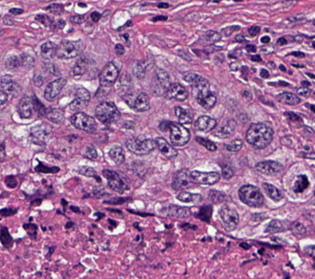nucleus: (246, 123, 272, 148), (103, 169, 128, 192), (126, 136, 155, 155), (95, 101, 120, 123), (71, 111, 96, 132), (239, 185, 263, 206), (56, 40, 83, 58), (44, 78, 66, 100), (69, 87, 89, 111), (124, 92, 149, 111), (169, 122, 189, 145), (99, 62, 118, 86), (155, 137, 177, 157), (220, 206, 238, 230), (184, 72, 209, 89), (172, 169, 193, 189), (190, 170, 219, 184), (30, 124, 50, 144), (196, 87, 215, 108), (215, 119, 235, 138), (255, 160, 282, 174), (165, 83, 187, 100), (161, 205, 190, 217), (155, 68, 170, 91), (263, 183, 282, 201), (194, 116, 216, 131), (78, 166, 100, 181), (72, 56, 88, 75), (108, 145, 124, 164), (175, 106, 192, 123), (40, 41, 56, 59), (277, 92, 300, 104), (177, 192, 202, 203), (293, 174, 308, 192), (32, 96, 46, 115), (196, 137, 216, 150), (45, 108, 63, 122), (265, 220, 285, 232), (290, 221, 305, 236), (197, 206, 211, 221), (133, 62, 146, 78), (203, 31, 220, 43), (225, 139, 242, 151), (209, 190, 224, 203), (85, 146, 97, 159), (277, 36, 293, 45), (297, 86, 310, 96), (222, 165, 232, 178), (286, 112, 300, 120), (115, 44, 124, 55), (34, 75, 42, 85), (305, 246, 313, 256), (290, 52, 304, 57), (260, 69, 268, 77), (235, 34, 244, 41), (246, 45, 255, 51), (261, 36, 269, 42), (251, 55, 260, 60), (280, 65, 285, 70)
